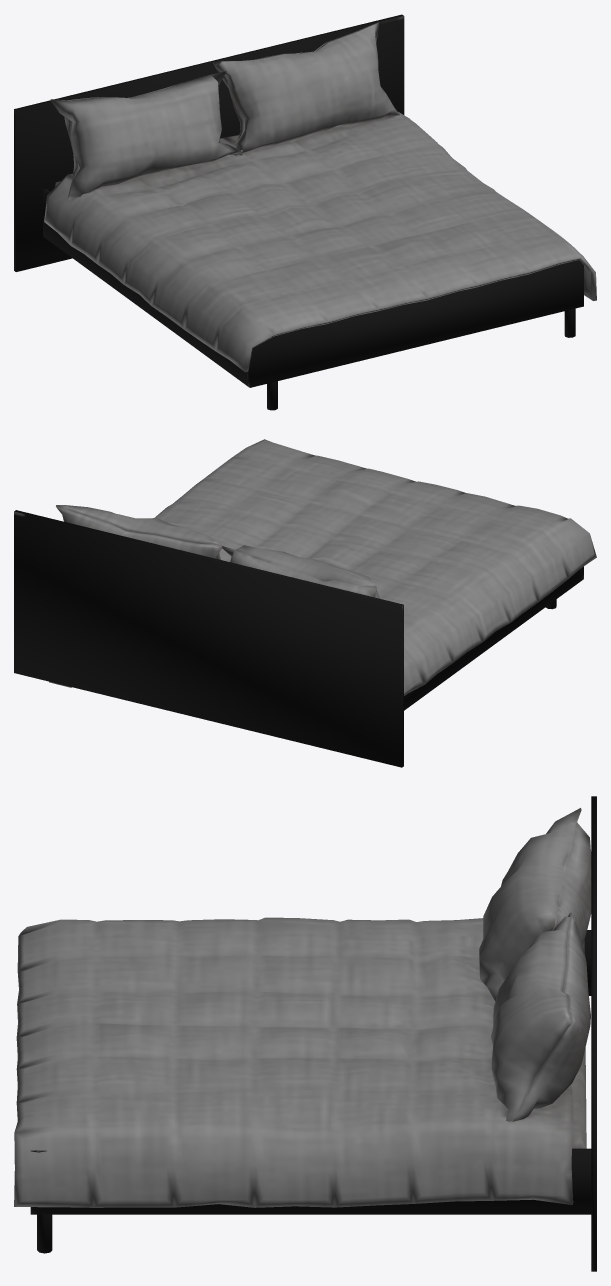
The model's file is bed2.fbx.
3 views of the same model, one above another, from view 1: azimuth 30°, elevation 25°; view 2: azimuth 150°, elevation 25°; view 3: azimuth 270°, elevation 25° (orthographic). The views are drawn at different scales.
Visible parts, largest first — view 1: big blanket.001; view 2: big blanket.001; view 3: big blanket.001.
Boxes of the visible parts, x1=… form: big blanket.001: x1=14, y1=14, x2=596, y2=410; big blanket.001: x1=14, y1=439, x2=596, y2=767; big blanket.001: x1=14, y1=796, x2=596, y2=1271.
Size of the model in its own units: 2.08 by 0.8754 by 2.
1 material, 1 textured.
